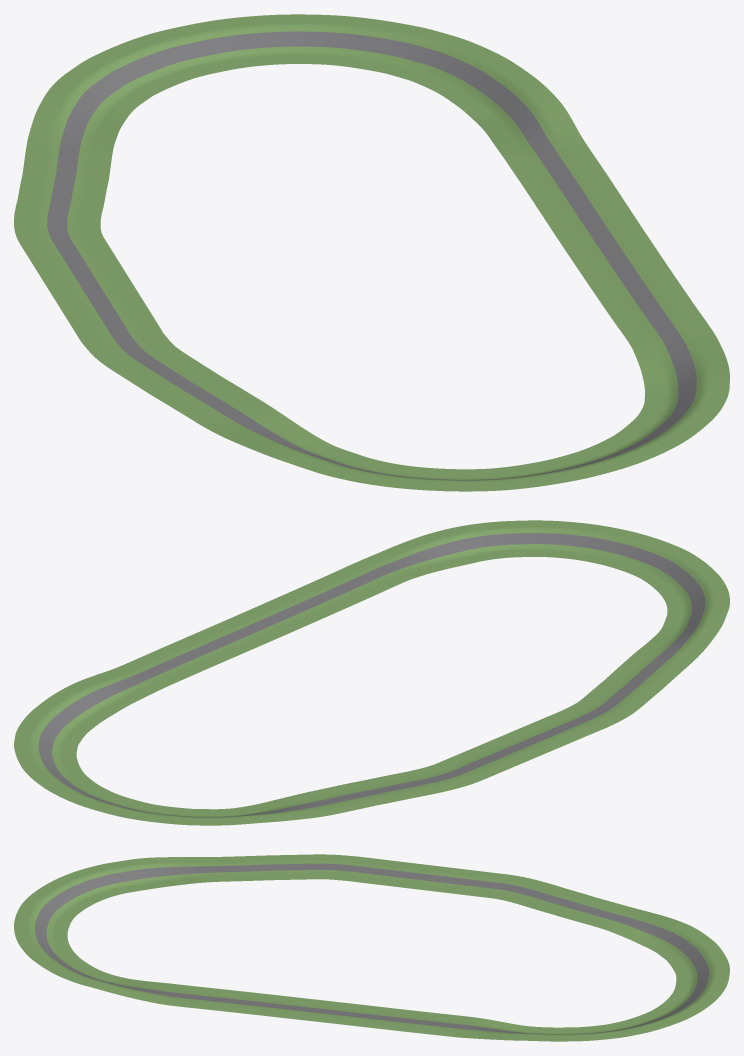
Rendered from road_mesh.glb.
3 renders of one model, top to bottom at view 1: azimuth 30°, elevation 25°; view 2: azimuth 150°, elevation 25°; view 3: azimuth 270°, elevation 25°, orthographic. The views are drawn at different scales.
Parts seen in each view (by area): view 1: road_10, road_09, road_11, road_08, road_07, road_06, road_05, road_12, road_13, road_00, road_01, road_04 (+2 smaller); view 2: road_04, road_03, road_08, road_05, road_06, road_07, road_09, road_02, road_00, road_01, road_13, road_12 (+2 smaller); view 3: road_02, road_11, road_00, road_13, road_01, road_03, road_12, road_06, road_07, road_10, road_05, road_04 (+2 smaller).
Boxes of the visible parts, box(x1,y1,x2,y2) form: road_10: box(124, 14, 334, 82); road_09: box(324, 15, 519, 99); road_11: box(30, 43, 181, 139); road_08: box(448, 67, 591, 164); road_07: box(508, 152, 643, 242); road_06: box(560, 230, 695, 319); road_05: box(613, 307, 729, 397); road_12: box(15, 129, 115, 216); road_13: box(14, 211, 135, 295); road_00: box(53, 289, 193, 376); road_01: box(122, 359, 299, 441); road_04: box(574, 384, 729, 467); road_04: box(444, 520, 607, 562); road_03: box(584, 526, 718, 594); road_08: box(38, 661, 176, 728); road_05: box(330, 530, 473, 594); road_06: box(231, 574, 374, 638); road_07: box(132, 618, 275, 681); road_09: box(14, 706, 92, 777); road_02: box(649, 575, 729, 645); road_00: box(505, 692, 646, 751); road_01: box(590, 641, 707, 702); road_13: box(407, 735, 548, 793); road_12: box(282, 772, 433, 818); road_02: box(54, 857, 185, 903); road_11: box(616, 912, 725, 970); road_00: box(299, 854, 426, 888); road_13: box(413, 865, 548, 904); road_01: box(178, 854, 302, 884); road_03: box(14, 880, 94, 942); road_12: box(519, 883, 648, 933); road_06: box(210, 989, 340, 1022); road_07: box(327, 1002, 457, 1035); road_10: box(653, 957, 729, 1014); road_05: box(91, 976, 222, 1009); road_04: box(15, 935, 117, 986).
Bounding box in the file's own units: 639 × 17.12 × 1022.
